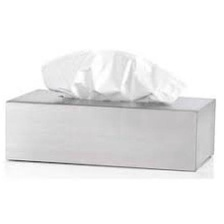book: (0, 82, 221, 176)
tissue: (36, 41, 192, 110)
